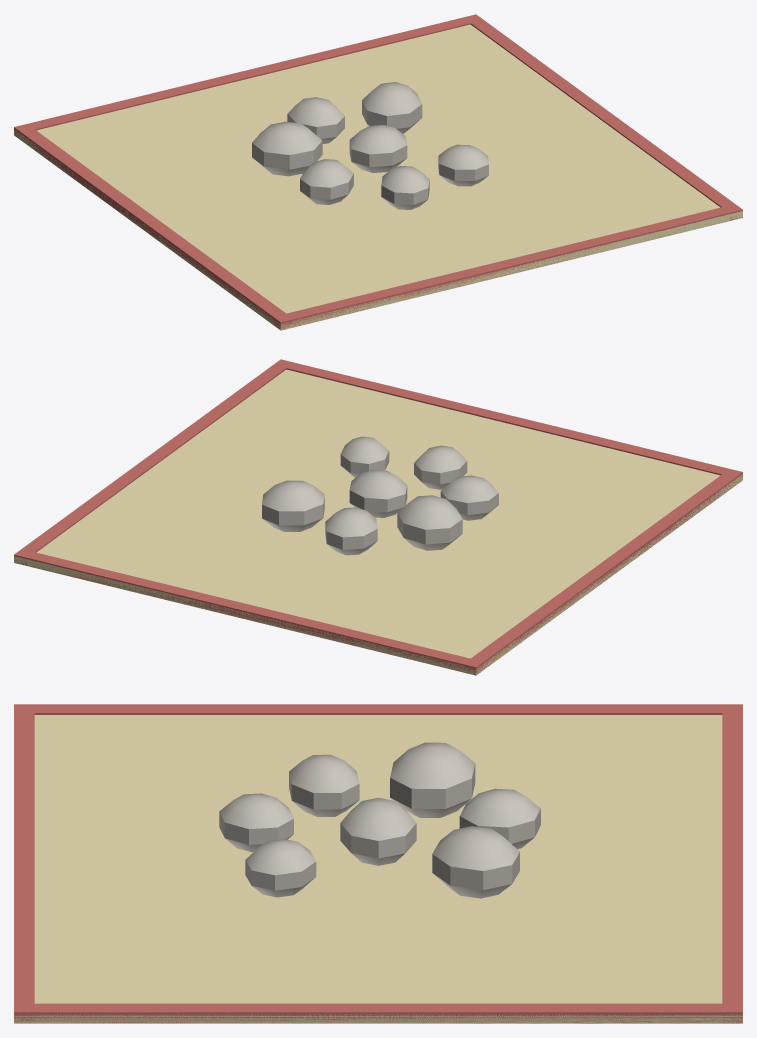
Rendered from Gatheng_Stones.fbx.
3 renders of one model, top to bottom at view 1: azimuth 30°, elevation 25°; view 2: azimuth 150°, elevation 25°; view 3: azimuth 270°, elevation 25°, orthographic. The views are drawn at different scales.
Parts seen in each view (by area): view 1: Gatheng_Stones; view 2: Gatheng_Stones; view 3: Gatheng_Stones.
Part boxes in pixels (x1=…): Gatheng_Stones: x1=14, y1=14, x2=742, y2=330; Gatheng_Stones: x1=14, y1=359, x2=742, y2=675; Gatheng_Stones: x1=14, y1=704, x2=742, y2=1023.
Bounding box in the file's own units: 0.7 × 0.0784 × 0.7.
